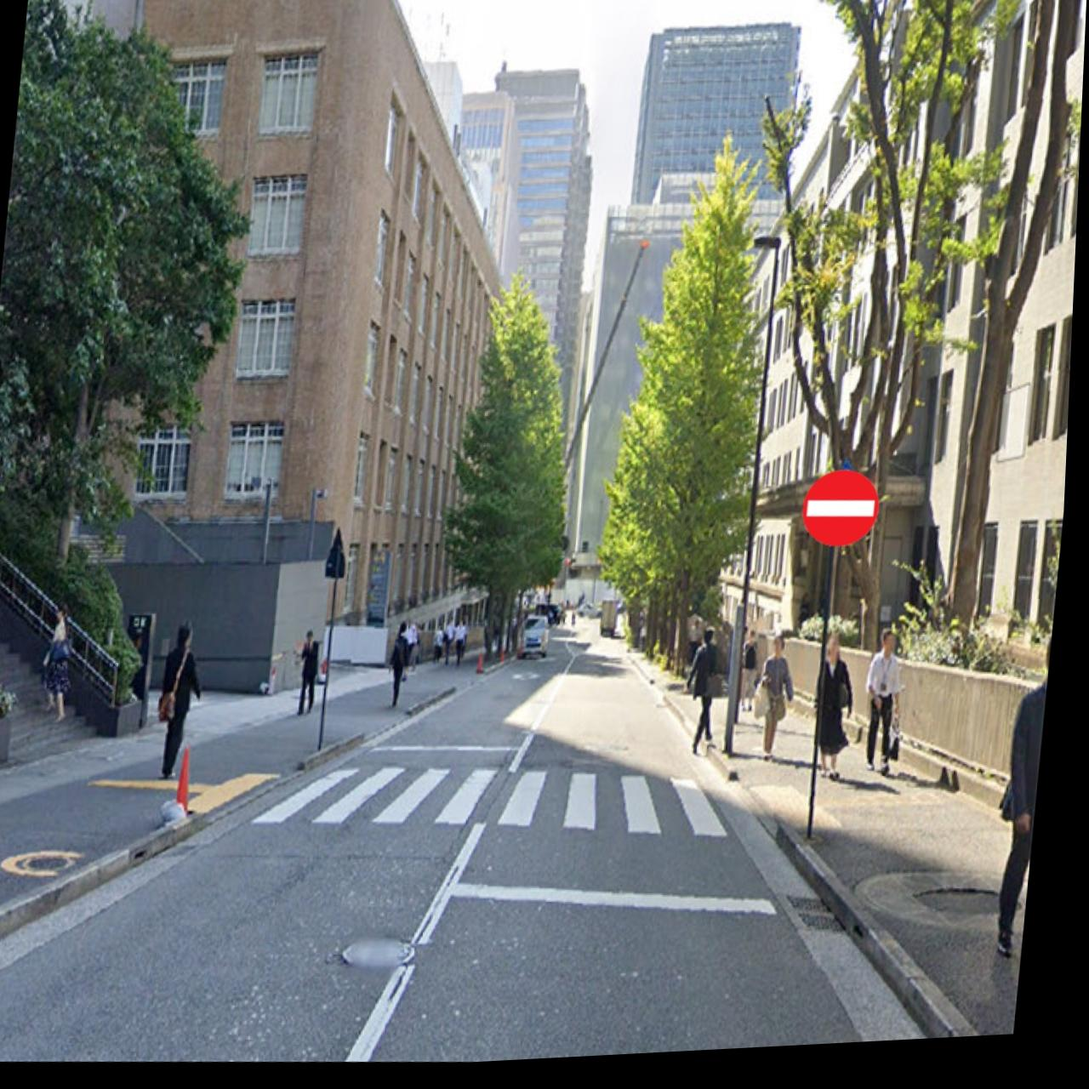barrier: (800, 466, 885, 551)
